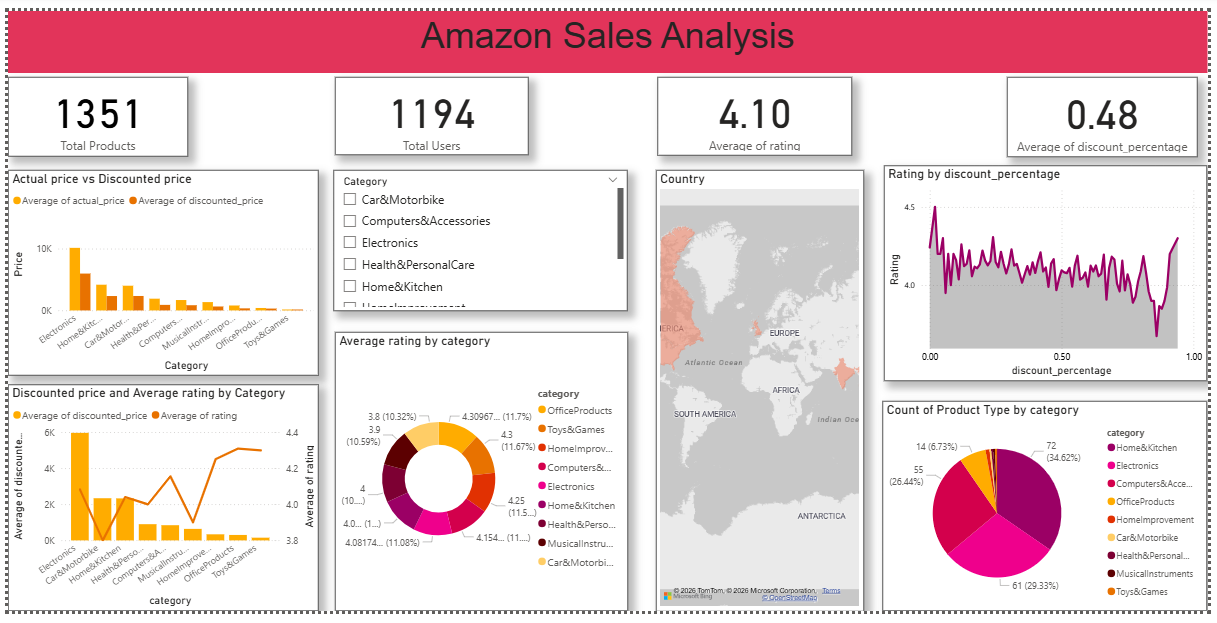

The dashboard page shown, as its layout file describes it:
{"tool":"powerbi","page":{"name":"Page 1","canvas":[1600,800],"ordinal":0},"visuals":[{"type":"textbox","box":[0,0,1599.4,82.8],"z":0},{"type":"card","fields":{"Values":["Count(amazon.product_id)"]},"box":[0,87.8,240.2,106],"z":1000},{"type":"clusteredColumnChart","title":"Actual price vs Discounted price","fields":{"Category":["amazon.category"],"Y":["Avg(amazon.actual_price)","Avg(amazon.discounted_price)"]},"box":[0,211.7,414.1,274.2],"z":2000},{"type":"card","fields":{"Values":["Avg(amazon.rating)"]},"box":[865.1,88.3,259.5,104.9],"z":3000},{"type":"card","fields":{"Values":["Avg(amazon.discount_percentage)"]},"box":[1332.5,88.3,254,106.8],"z":4000},{"type":"areaChart","fields":{"Category":["amazon.discount_percentage"],"Y":["Avg(amazon.rating)"]},"box":[1168.7,206.1,430.7,287.1],"z":5000},{"type":"lineStackedColumnComboChart","title":"Discounted price and Average rating by Category","fields":{"Category":["amazon.category"],"Y":["Avg(amazon.discounted_price)"],"Y2":["Avg(amazon.rating)"]},"box":[0,498.8,414.1,301.8],"z":6000},{"type":"pieChart","fields":{"Category":["amazon.category"],"Y":["Count(amazon.Product Type)"]},"box":[1166.9,520.9,432.5,279.8],"z":7000},{"type":"donutChart","title":"Average rating by category","fields":{"Category":["amazon.category"],"Y":["Avg(amazon.rating)"]},"box":[435.8,428.3,390.6,371.7],"z":8000},{"type":"slicer","fields":{"Values":["amazon.category"]},"box":[434,212,392,188],"z":9000},{"type":"card","fields":{"Values":["Count(amazon.user_id)"]},"box":[436,88,258,104],"z":10000},{"type":"filledMap","fields":{"Category":["Merge1.Sheet1.Country"]},"box":[864.2,211.3,277.4,588.7],"z":11000}]}

Visuals, with their boxes in screenshot pixels (x1, y1, x2, y2), scaled from the page's 1600x800 canvas onto the 1217x623 screenshot:
textbox: Rect(0, 0, 1216, 64)
card - Count(amazon.product_id): Rect(0, 68, 183, 151)
"Actual price vs Discounted price" clusteredColumnChart: Rect(0, 165, 315, 378)
card - Avg(amazon.rating): Rect(658, 69, 855, 150)
card - Avg(amazon.discount_percentage): Rect(1014, 69, 1207, 152)
areaChart - amazon.discount_percentage x Avg(amazon.rating): Rect(889, 161, 1216, 384)
"Discounted price and Average rating by Category" lineStackedColumnComboChart: Rect(0, 388, 315, 622)
pieChart - amazon.category x Count(amazon.Product Type): Rect(888, 406, 1216, 622)
"Average rating by category" donutChart: Rect(331, 334, 629, 622)
slicer - amazon.category: Rect(330, 165, 628, 312)
card - Count(amazon.user_id): Rect(332, 69, 528, 150)
filledMap - Merge1.Sheet1.Country: Rect(657, 165, 868, 622)
